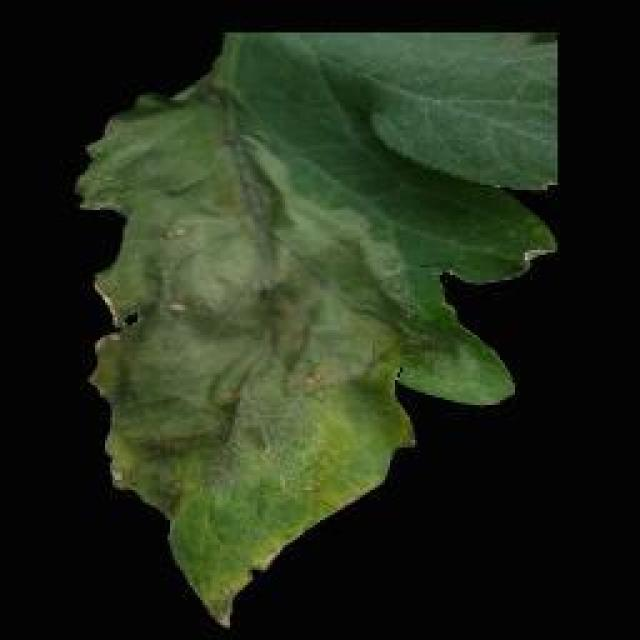Tomato Late Blight: (117, 185, 438, 568)
